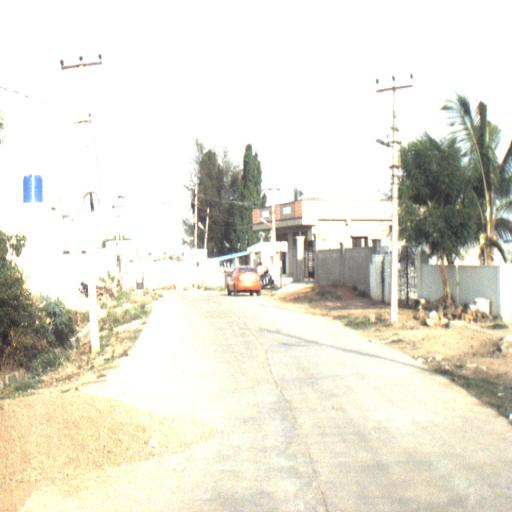street_light_0: (259, 217, 276, 237), (196, 221, 208, 241)
